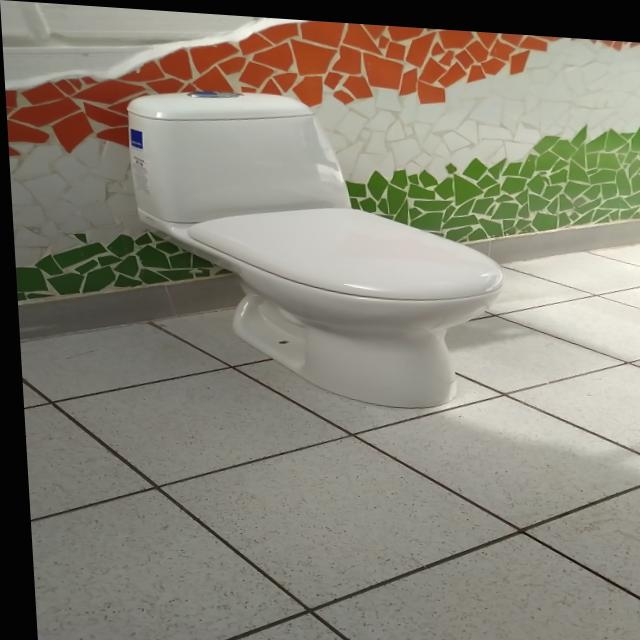toilet: (124, 81, 508, 409)
